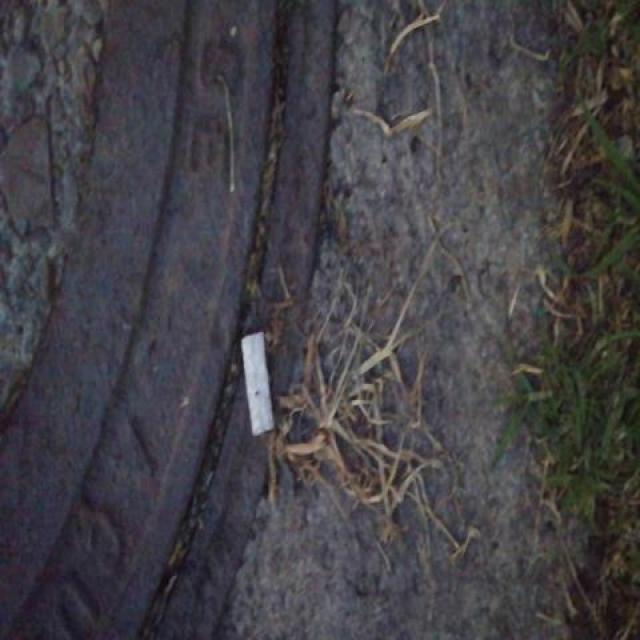non-organic waste: (237, 325, 282, 443)
